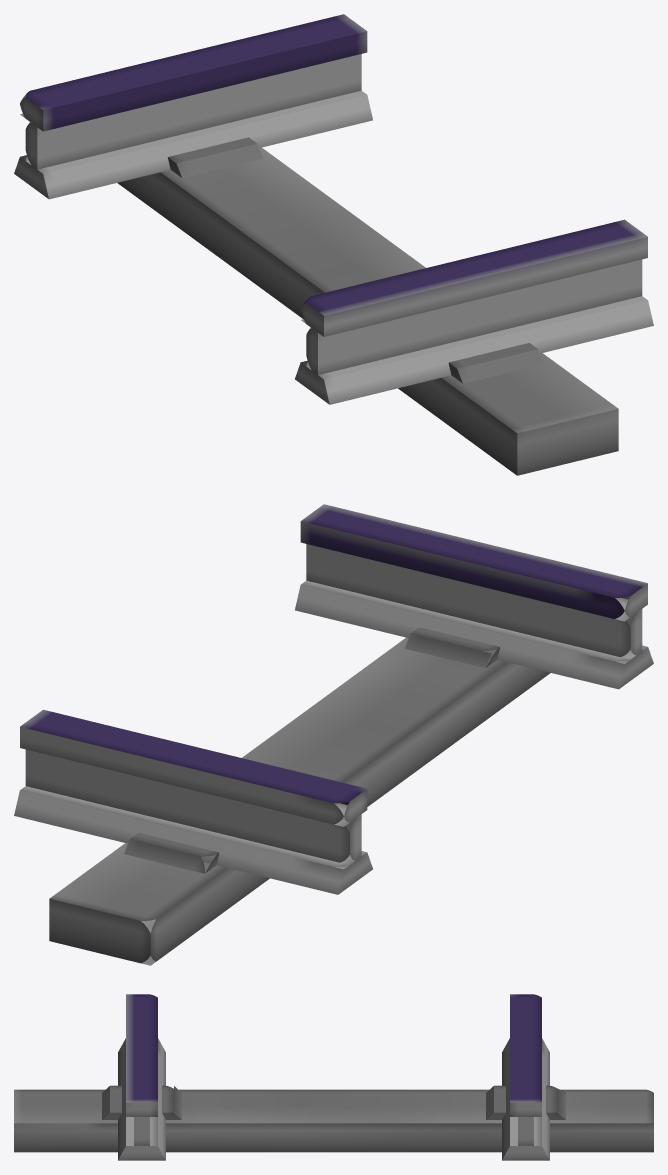
File: ultra_highspeed_track.obj
3 renders of one model, top to bottom at view 1: azimuth 30°, elevation 25°; view 2: azimuth 150°, elevation 25°; view 3: azimuth 270°, elevation 25°, orthographic. The views are drawn at different scales.
Visible parts, largest first — view 1: RAIL_BASE, RAIL_RIGHT, RAIL_LEFT; view 2: RAIL_BASE, RAIL_RIGHT, RAIL_LEFT; view 3: RAIL_BASE, RAIL_RIGHT, RAIL_LEFT.
Boxes of the visible parts, box(x1,y1,x2,y2) form: RAIL_BASE: box(117, 137, 618, 475); RAIL_RIGHT: box(14, 14, 372, 199); RAIL_LEFT: box(295, 219, 653, 404); RAIL_BASE: box(49, 627, 550, 965); RAIL_RIGHT: box(14, 709, 372, 894); RAIL_LEFT: box(295, 504, 653, 689); RAIL_BASE: box(14, 1085, 653, 1152); RAIL_RIGHT: box(502, 994, 549, 1160); RAIL_LEFT: box(118, 994, 165, 1160).
Size of the model in its own units: 1 by 0.375 by 2.5.
1 material, 1 textured.
